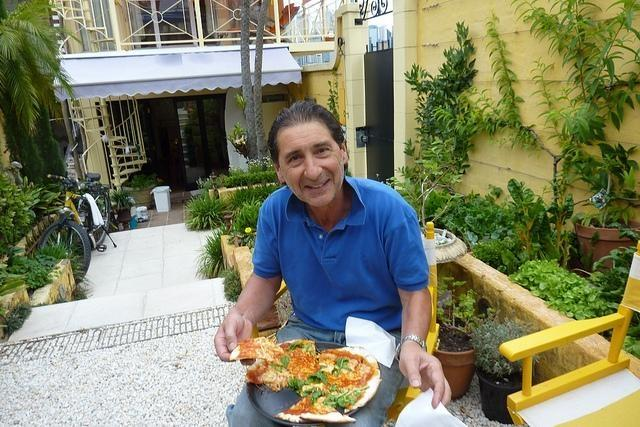bicycle: (36, 170, 118, 284)
